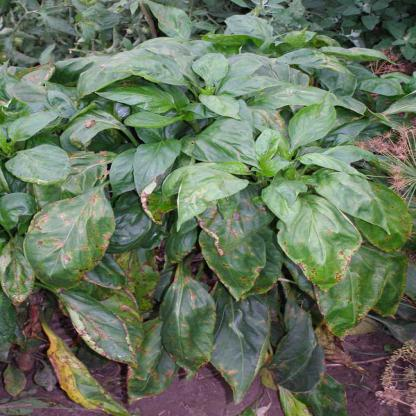bell pepper leaf spot: (26, 187, 116, 298), (281, 202, 356, 299), (190, 184, 283, 258), (55, 290, 139, 370), (156, 273, 218, 381), (312, 255, 388, 343), (125, 315, 177, 407), (361, 177, 415, 258), (202, 239, 270, 303)
